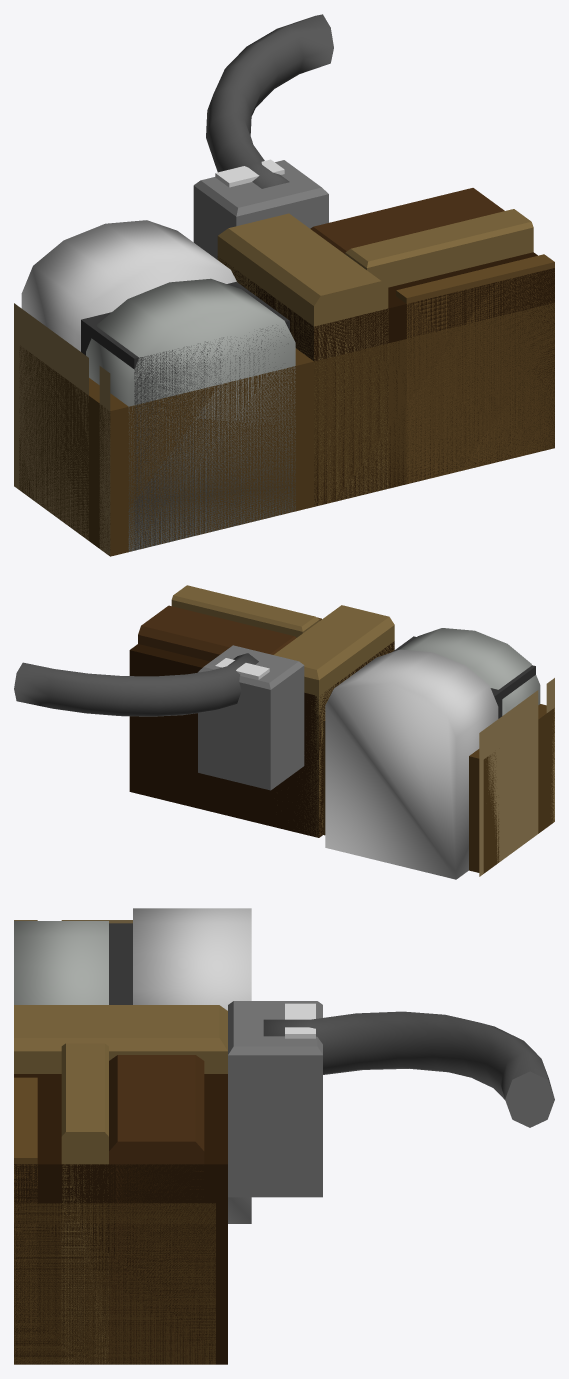
Rendered from newsha-155.glb.
The picture shows the model from 3 angles, top to bottom: view 1: azimuth 30°, elevation 25°; view 2: azimuth 150°, elevation 25°; view 3: azimuth 270°, elevation 25°; orthographic projection. The views are drawn at different scales.
Parts seen in each view (by area): view 1: newsha-155; view 2: newsha-155; view 3: newsha-155.
Part boxes in pixels (left/top/right/bottom): newsha-155: left=14, top=14, right=554, bottom=556; newsha-155: left=14, top=585, right=554, bottom=879; newsha-155: left=14, top=908, right=554, bottom=1364.
Size of the model in its own units: 2 by 1.13 by 1.9.
